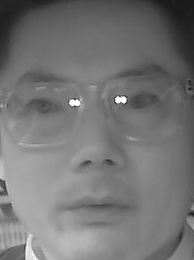eye: (21, 94, 63, 119), (125, 89, 160, 111)
glass: (104, 74, 185, 138), (6, 85, 78, 146)
mouth: (58, 185, 132, 235)
